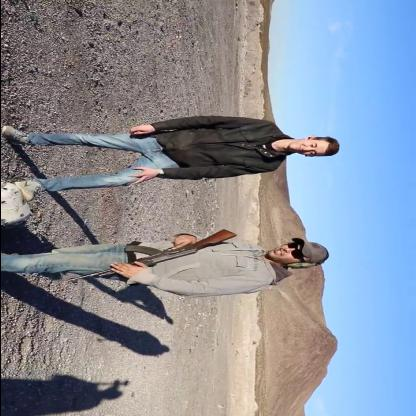long weapon: (61, 224, 238, 288)
